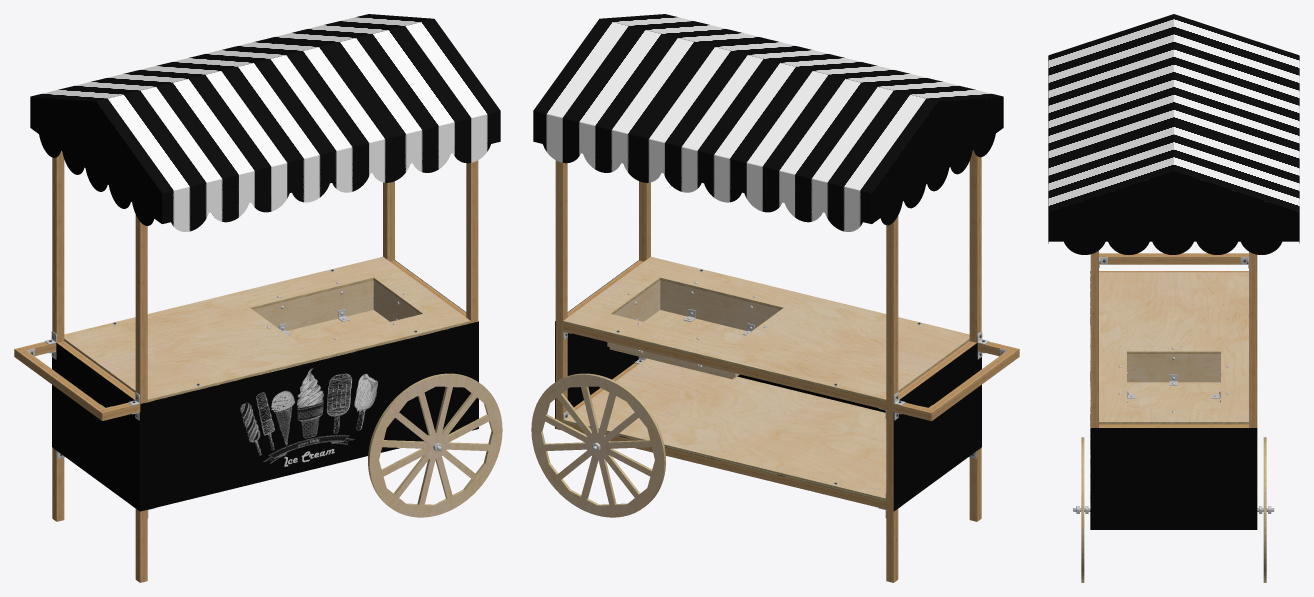
3 renders of one model, left to right at view 1: azimuth 30°, elevation 25°; view 2: azimuth 150°, elevation 25°; view 3: azimuth 270°, elevation 25°, orthographic. The views are drawn at different scales.
Visible parts, largest first — view 1: Плоскость.063, Плоскость.050, STOL.016, KOLESO.020, Плоскость.051, Плоскость.061, Плоскость.060, Куб.257, Куб.261, Куб.280, Куб.264, Куб.283 (+3 smaller); view 2: Плоскость.060, STOL.017, STOL.016, KOLESO.019, Плоскость.051, Плоскость.061, Плоскость.063, Куб.257, Куб.261, Куб.279, Куб.260, Куб.258 (+7 smaller); view 3: Плоскость.060, Плоскость.063, STOL.016, Плоскость.059, Плоскость.062, Куб.282, Куб.283, Куб.253, Куб.264, Куб.260, Куб.266, KOLESO.019 (+1 smaller).
Part boxes in pixels (x1,y1,x2,y2): Плоскость.063: (96,19,500,231); Плоскость.050: (140,321,478,511); STOL.016: (64,256,470,401); KOLESO.020: (368,373,502,517); Плоскость.051: (52,343,140,511); Плоскость.061: (30,97,161,225); Плоскость.060: (30,14,433,101); Куб.257: (52,150,64,521); Куб.261: (135,215,147,582); Куб.280: (253,280,373,330); Куб.264: (466,160,478,323); Куб.283: (287,310,389,343); Плоскость.060: (533,19,937,231); STOL.017: (563,358,886,501); STOL.016: (563,256,969,401); KOLESO.019: (531,373,665,517); Плоскость.051: (893,343,981,511); Плоскость.061: (872,97,1003,225); Плоскость.063: (599,14,1003,101); Куб.257: (886,216,898,582); Куб.261: (969,150,981,521); Куб.279: (660,280,780,330); Куб.260: (555,160,567,430); Куб.258: (563,323,886,409); Плоскость.060: (1174,14,1299,243); Плоскость.063: (1048,14,1173,243); STOL.016: (1099,272,1248,424); Плоскость.059: (1090,428,1257,529); Плоскость.062: (1049,171,1298,254); Куб.282: (1127,354,1220,382); Куб.283: (1127,382,1220,408); Куб.253: (1099,253,1248,264); Куб.264: (1090,250,1098,427); Куб.260: (1249,252,1257,427); Куб.266: (1099,424,1248,427); KOLESO.019: (1263,437,1266,582).
Size of the model in its own units: 2.08 by 2.26 by 1.2.
